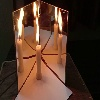fire: (35, 18, 40, 48)
